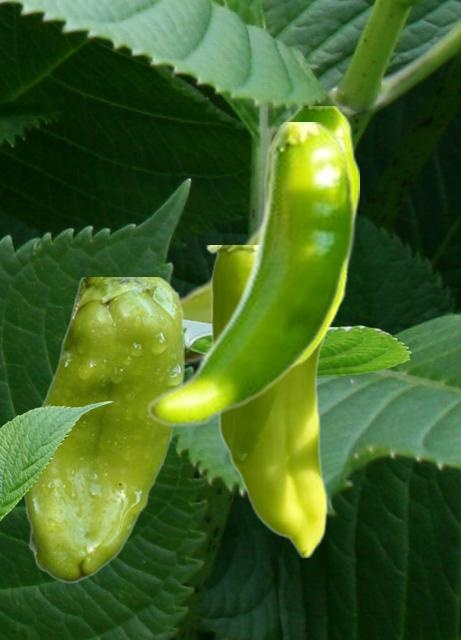green_chili: (145, 122, 356, 427), (22, 277, 183, 582), (205, 245, 327, 556), (264, 106, 358, 365), (178, 214, 261, 363)
